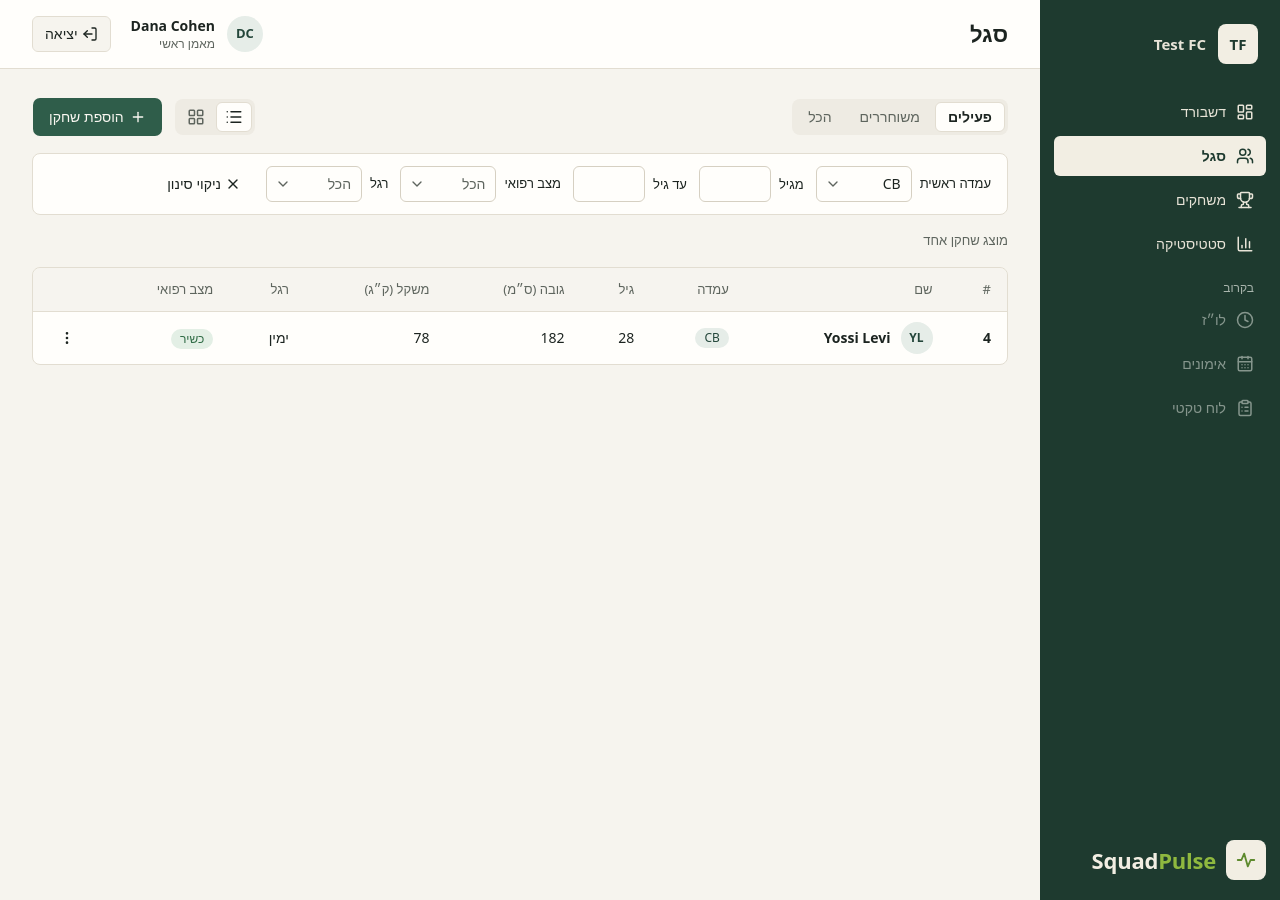
Test: the list request › removes a filter when its select goes back to הכל
Check: the heading "סגל" is shown, box [970,20,1008,48]
Click the dropdown named "עמדה ראשית": click(864, 184) [816,166,912,202]
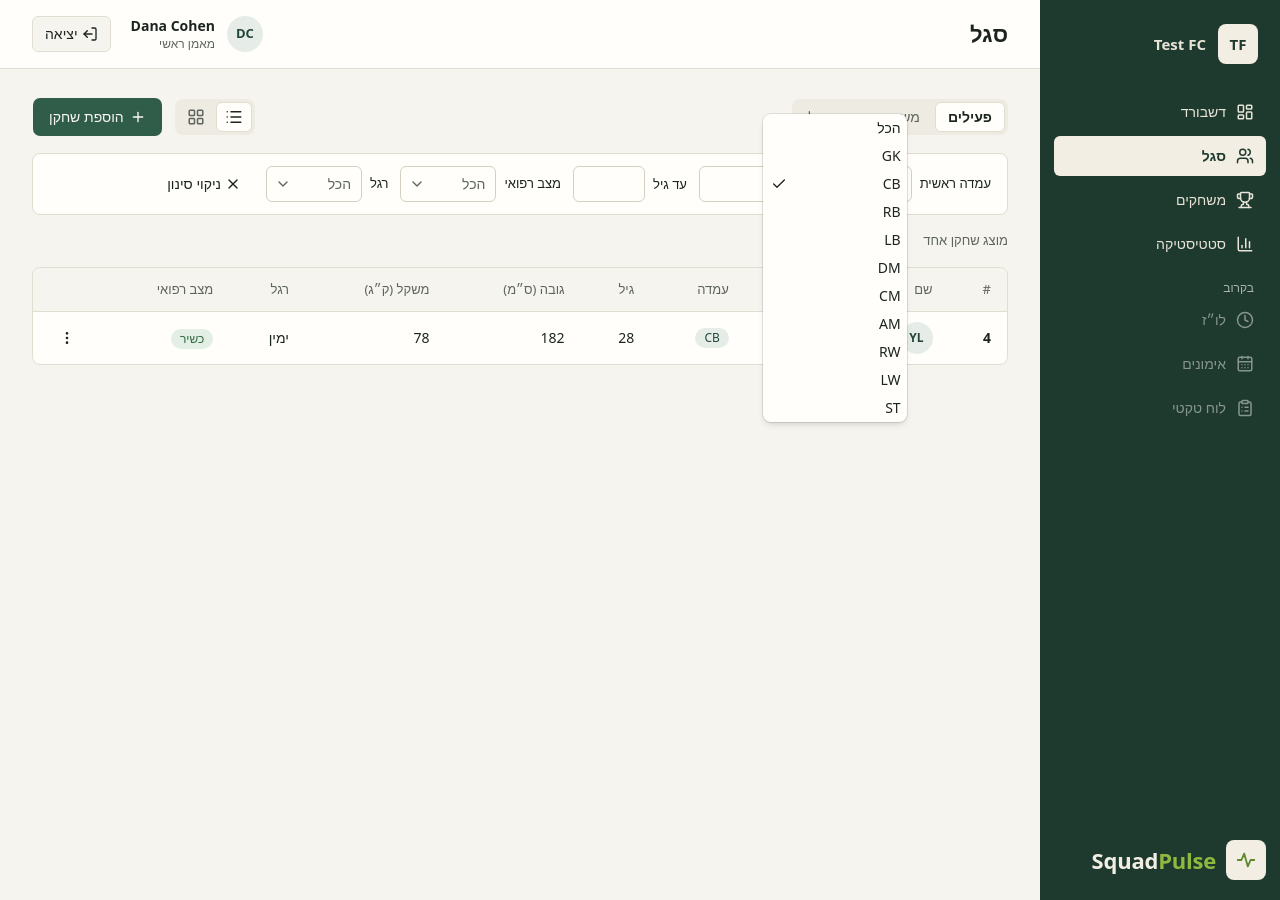
Click the option "הכל": click(889, 128) [877,118,901,137]
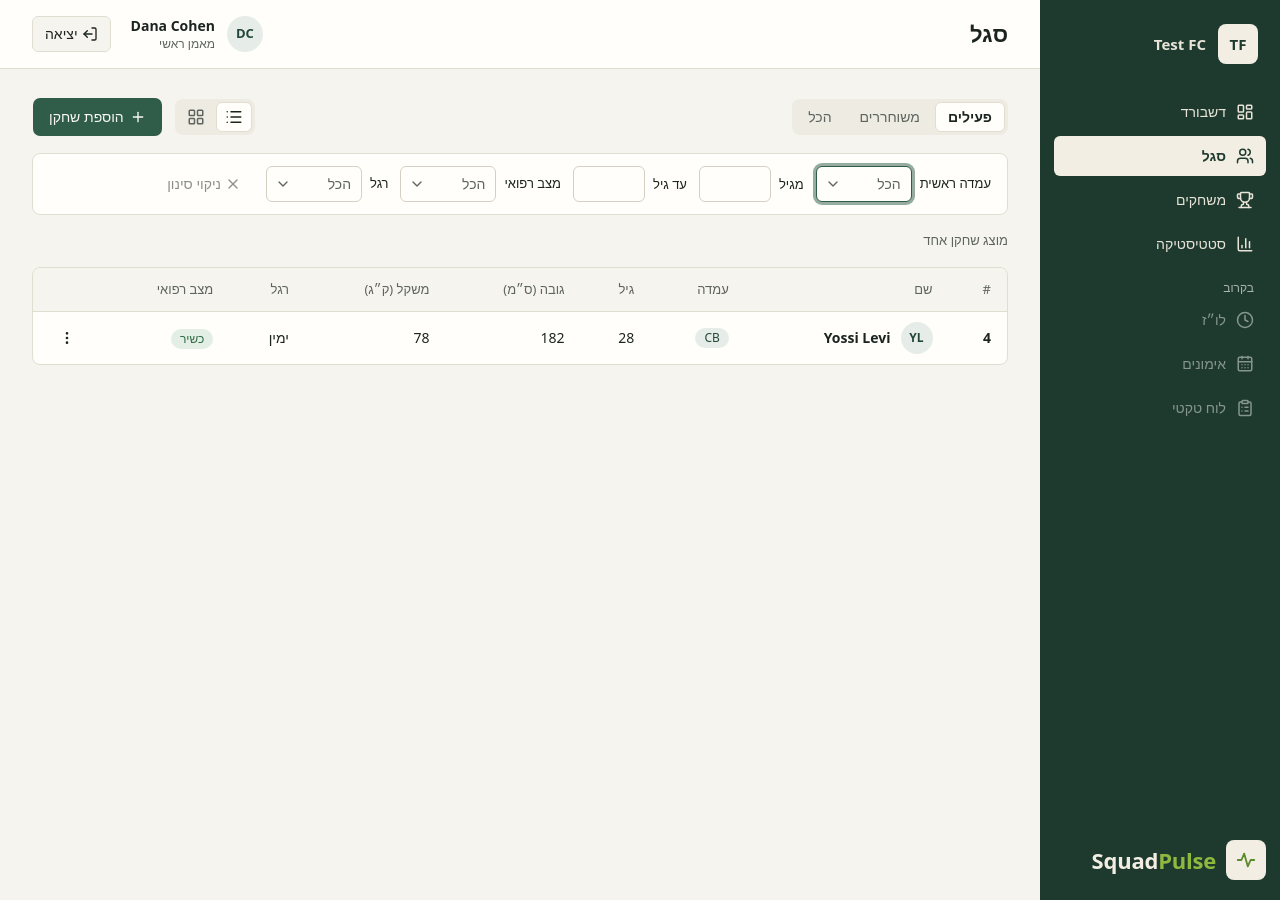
Check: the list "הכל GK CB RB LB DM CM AM RW LW ST" is gone
